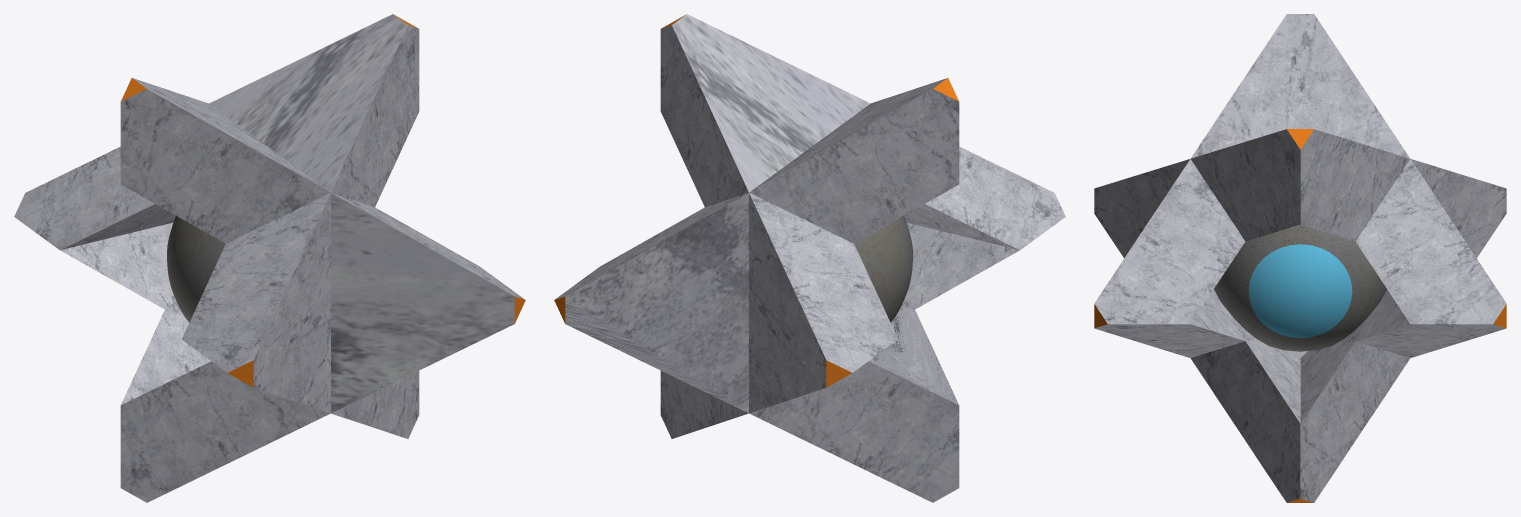
Rendered from companion.v2.0.7.glb.
3 renders of one model, left to right at view 1: azimuth 30°, elevation 25°; view 2: azimuth 150°, elevation 25°; view 3: azimuth 270°, elevation 25°, orthographic. The views are drawn at different scales.
Parts seen in each view (by area): view 1: back, front, Sphere.001; view 2: back, front, Sphere.001; view 3: front, back, Sphere.001.
Part boxes in pixels (bbox=[...]): back: bbox=[14, 78, 330, 502]; front: bbox=[209, 14, 525, 438]; Sphere.001: bbox=[167, 216, 225, 322]; back: bbox=[749, 78, 1065, 502]; front: bbox=[554, 14, 870, 438]; Sphere.001: bbox=[854, 216, 912, 322]; front: bbox=[1094, 129, 1506, 502]; back: bbox=[1094, 14, 1506, 257]; Sphere.001: bbox=[1214, 224, 1386, 351].
Size of the model in its own units: 2 by 2.65 by 2.65.
Materials: 5 (2 with a texture image).
